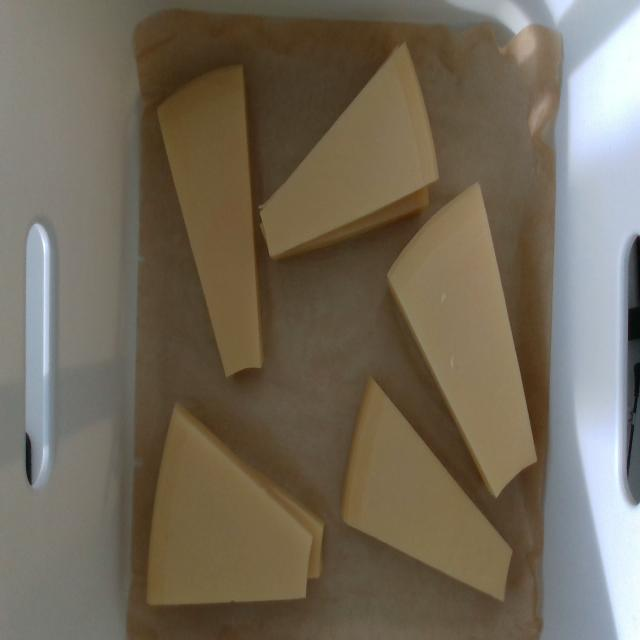Cheese: (389, 186, 536, 497), (341, 374, 513, 603), (262, 45, 438, 255), (158, 66, 262, 376), (148, 408, 311, 604)
